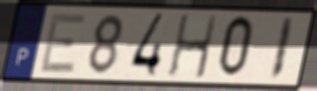0: (216, 13, 257, 82)
4: (128, 12, 166, 80)
8: (85, 12, 127, 76)
E: (37, 12, 89, 75)
H: (166, 13, 219, 81)
I: (267, 16, 296, 82)
